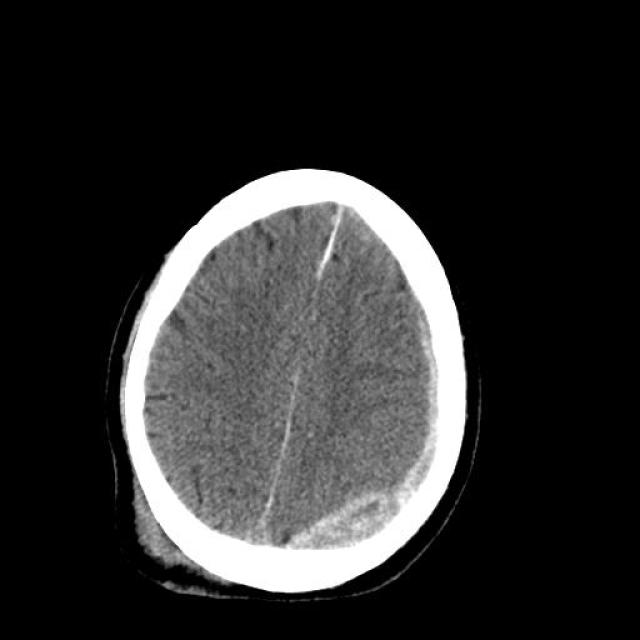Subdural: (280, 297, 464, 598)
